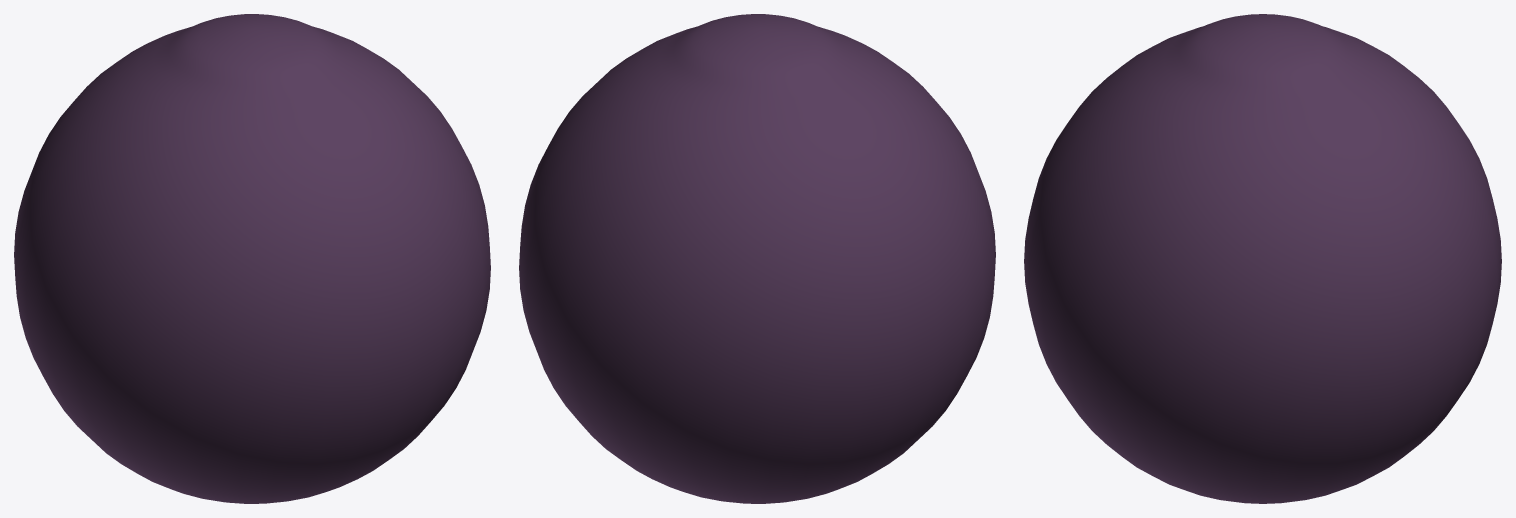
File: ojo.fbx
3 renders of one model, left to right at view 1: azimuth 30°, elevation 25°; view 2: azimuth 150°, elevation 25°; view 3: azimuth 270°, elevation 25°, orthographic.
Parts seen in each view (by area): view 1: cristalino; view 2: cristalino; view 3: cristalino.
Boxes of the visible parts, bbox=[...] form: cristalino: bbox=[14, 14, 490, 503]; cristalino: bbox=[519, 14, 995, 503]; cristalino: bbox=[1024, 14, 1501, 503].
Size of the model in its own units: 358 by 375 by 358.
